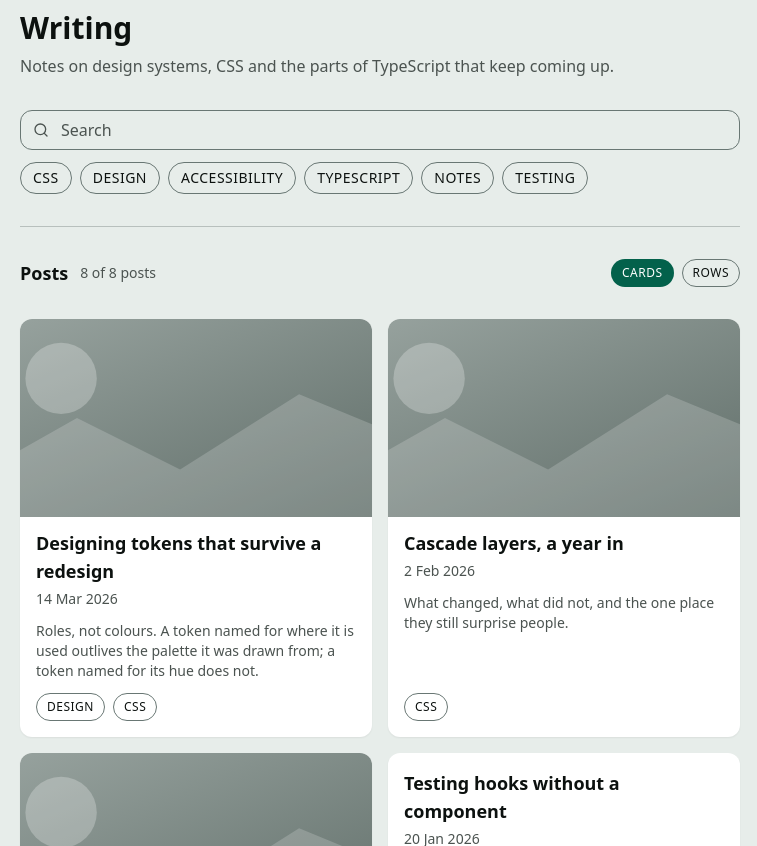
Scenario: the kitchen sink › a tag that would leave nothing is greyed out before it is pressed
Click the button "notes" at [458, 178], box [421,162,494,194]
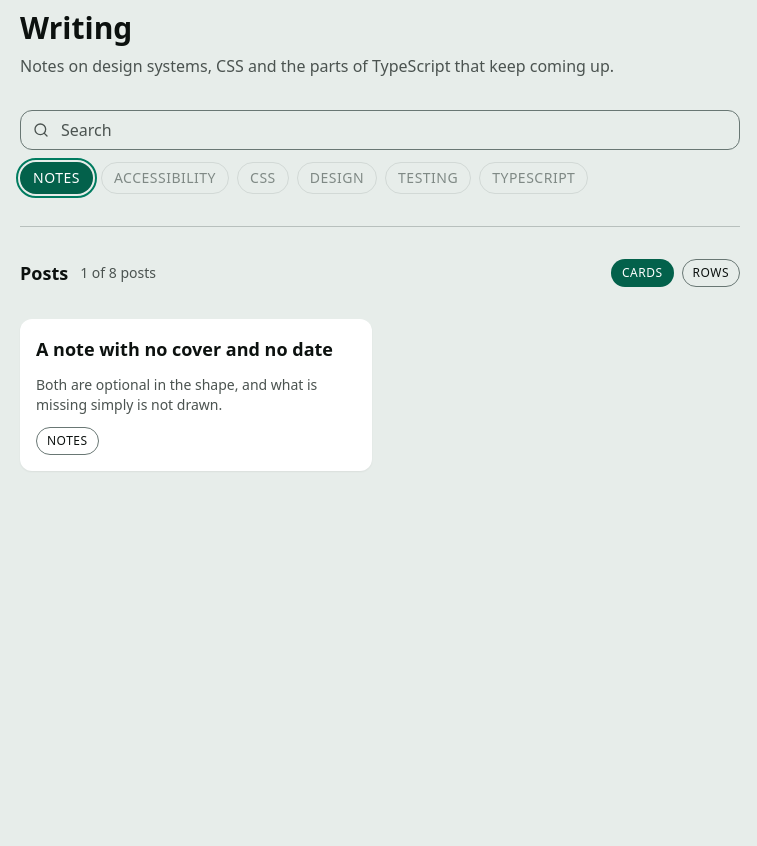
Expected: the 1st button "notes" is enabled, [20,162,93,194]
Now the button "css" is disabled, box [237,162,289,194]
